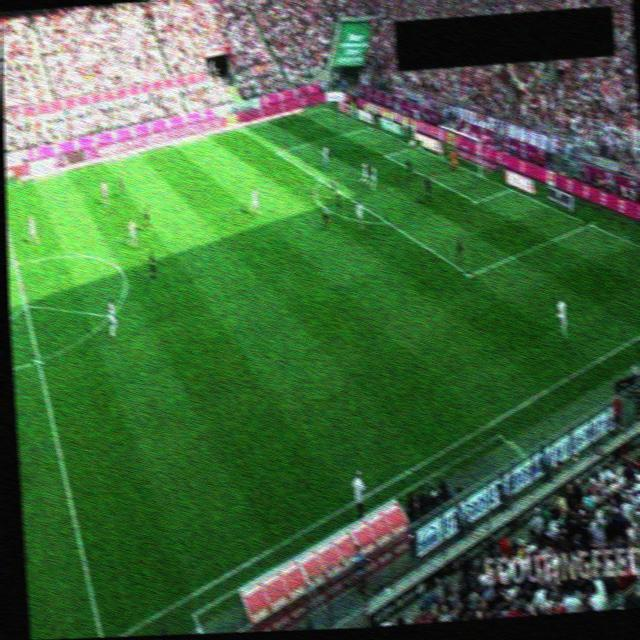bigarea_bottom_inner: (463, 269, 476, 280)
bigarea_bottom_outter: (582, 219, 595, 231)
bigarea_top_inner: (271, 145, 284, 157)
bigarea_top_outter: (364, 120, 377, 132)
bottom_arc_area_intersection: (379, 215, 392, 227)
corner: (319, 101, 332, 113)
halfcircle_bottom: (30, 353, 43, 366)
halfcircle_top: (7, 257, 20, 269)
smallarea_bottom_inner: (470, 194, 483, 206)
smallarea_bottom_outter: (503, 182, 516, 194)
smallarea_top_inner: (379, 149, 391, 160)
smallarea_top_outter: (409, 139, 422, 152)
top_arc_area_intersection: (313, 172, 327, 185)
